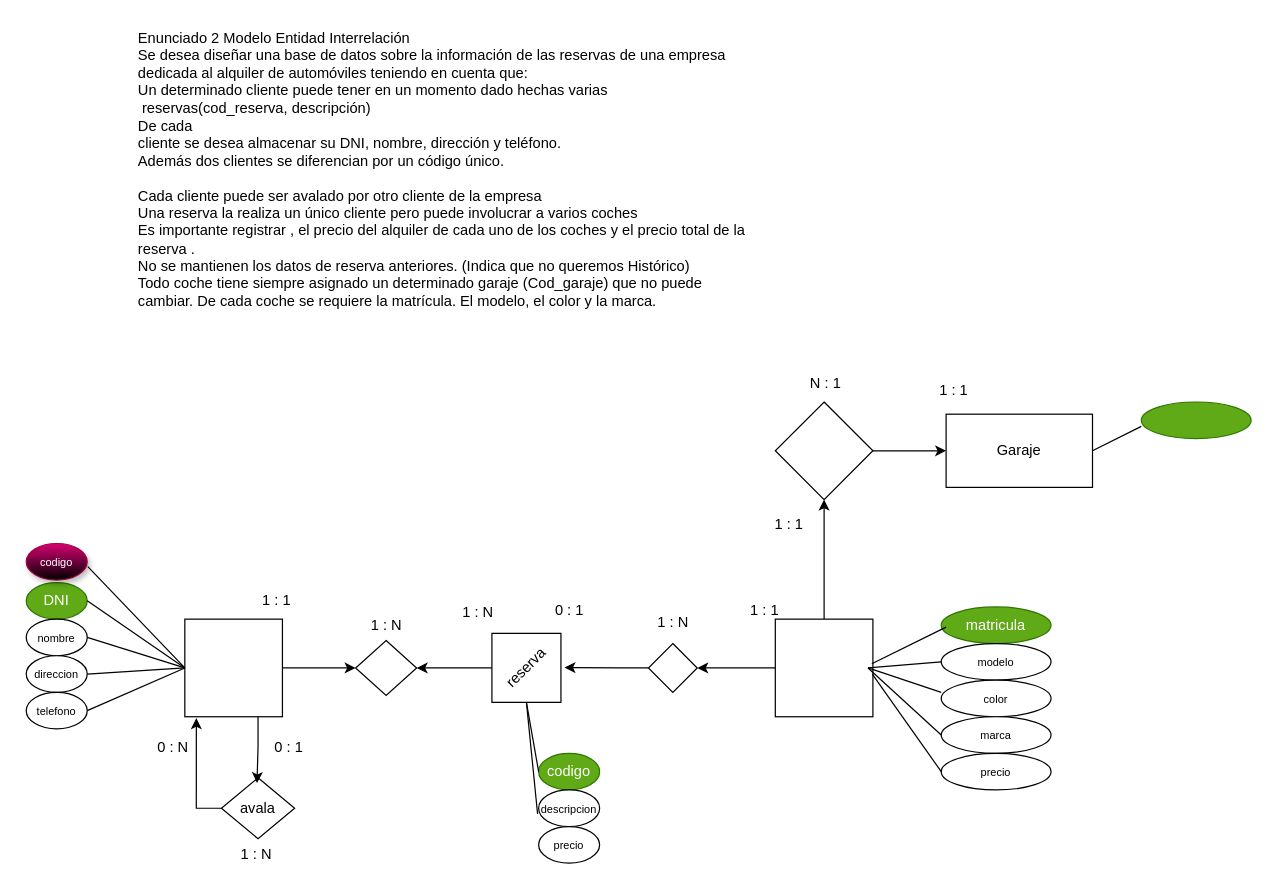
The diagram is 1272 pixels wide and 893 high, and some of its shapes have lost their labels. The centre of each missing label's shape, as x and y in pixels:
asigna: pixel 823 450
Cliente: pixel 233 667
coche: pixel 823 667
codigo_garaje: pixel 1195 420
de: pixel 672 667
hace: pixel 385 667
